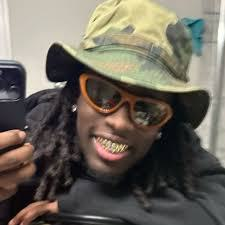kai-cenat: (78, 61, 180, 189)
